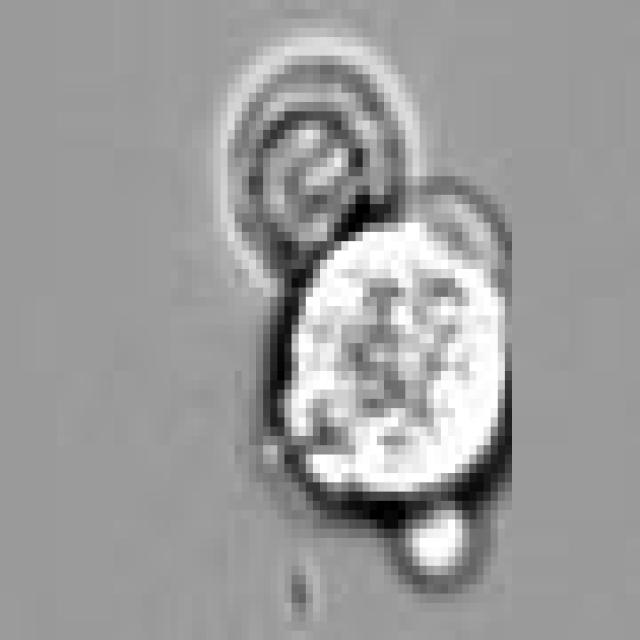Cancer Cell: (277, 213, 519, 510)
WBC: (228, 46, 406, 288)
